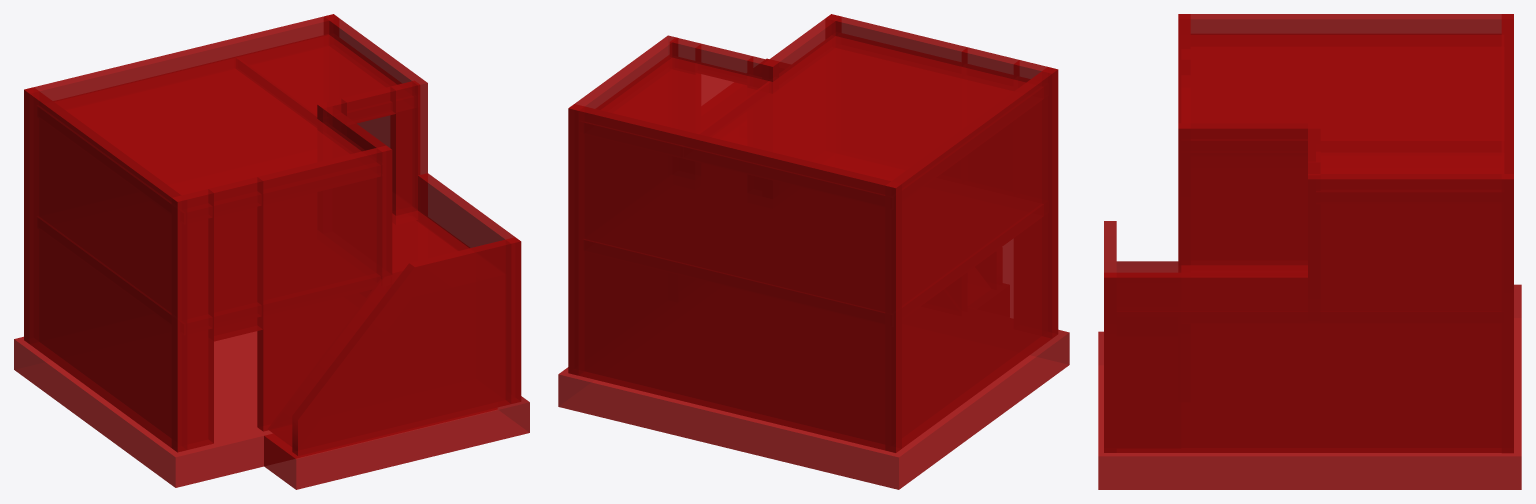
File: SM_Bld_Village_House_06_Collision.fbx
3 renders of one model, left to right at view 1: azimuth 30°, elevation 25°; view 2: azimuth 150°, elevation 25°; view 3: azimuth 270°, elevation 25°, orthographic. The views are drawn at different scales.
Visible parts, largest first — view 1: SM_Bld_Village_House_06_Collision; view 2: SM_Bld_Village_House_06_Collision; view 3: SM_Bld_Village_House_06_Collision.
Part boxes in pixels (x1,y1,x2,y2): SM_Bld_Village_House_06_Collision: (14, 14, 529, 489); SM_Bld_Village_House_06_Collision: (558, 14, 1069, 489); SM_Bld_Village_House_06_Collision: (1098, 14, 1521, 489).
Size of the model in its own units: 807 by 673 by 840.
